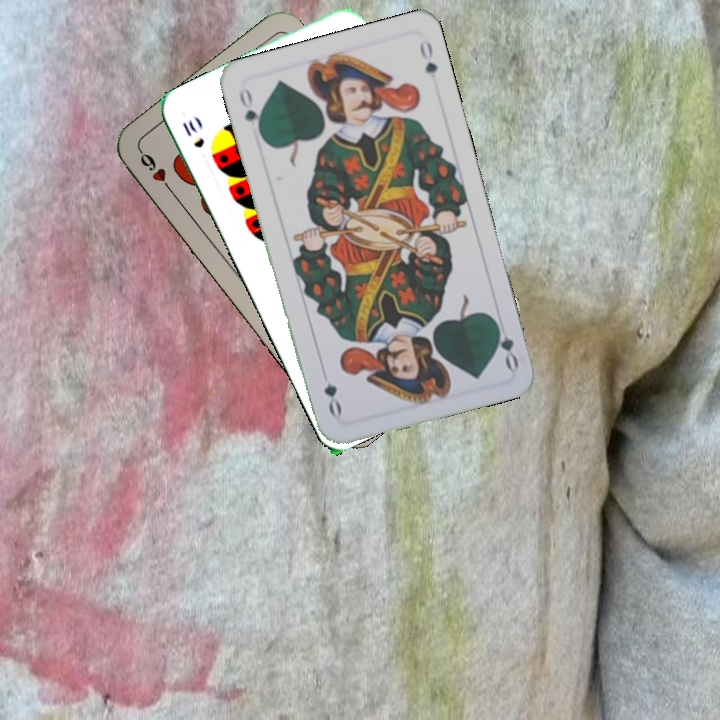GO: (489, 315, 522, 373), (235, 84, 265, 140)
H9: (135, 146, 177, 197)
S10: (178, 115, 207, 151)
